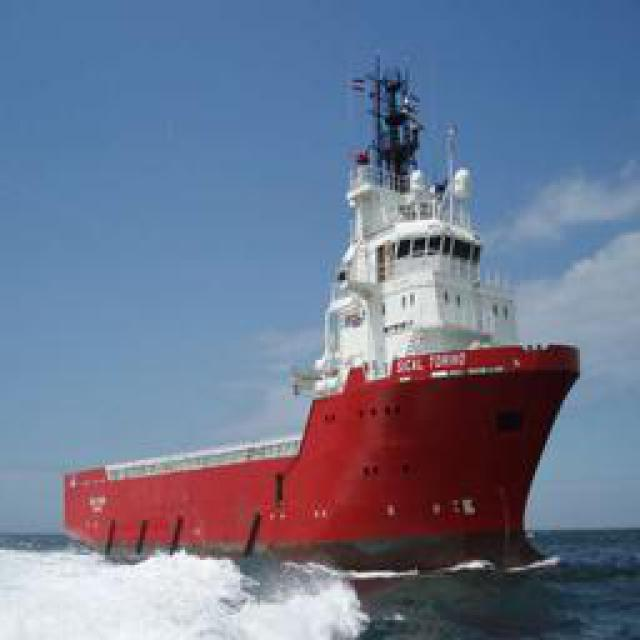Ship: (77, 49, 580, 579)
